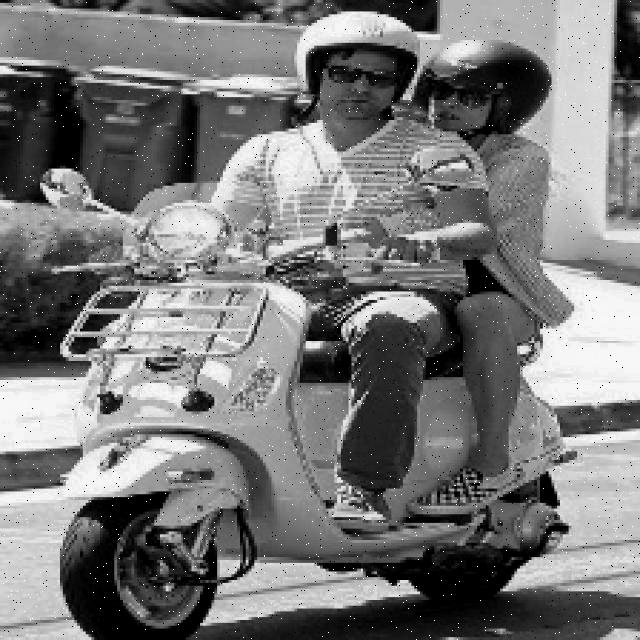Bike: (43, 200, 473, 624)
